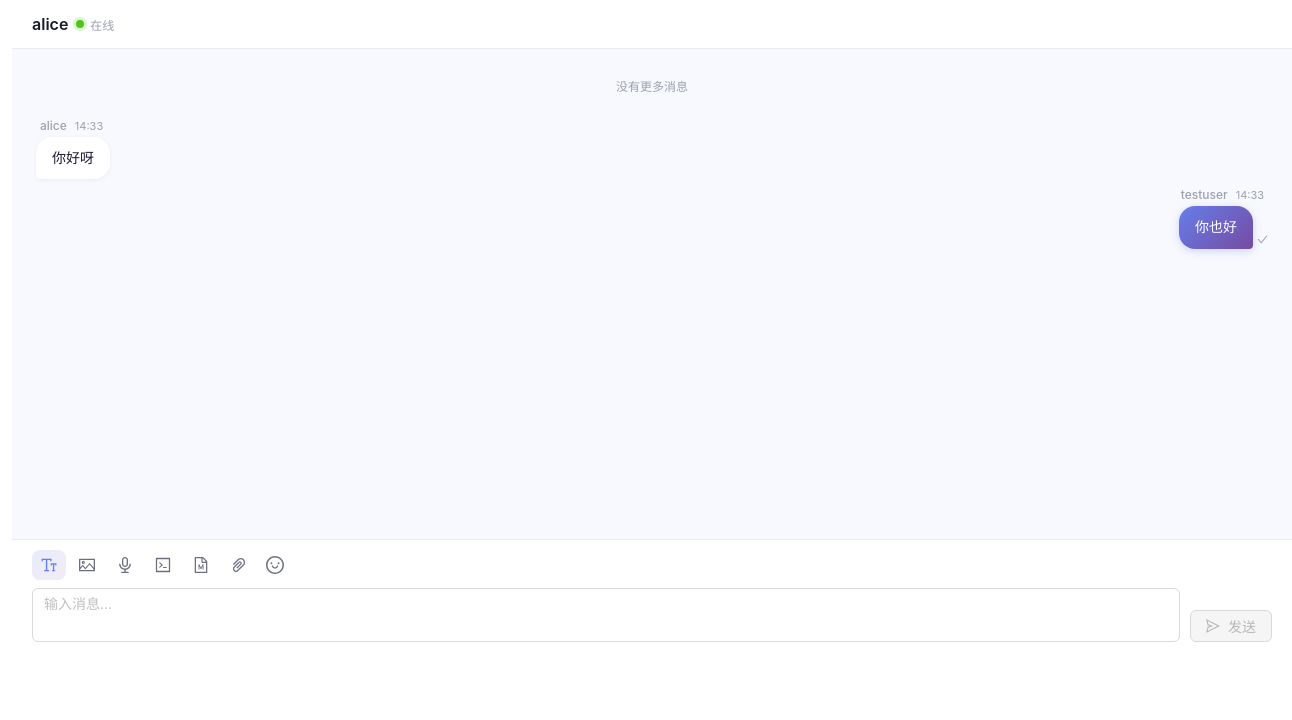
it: ChatWindow v1.3.0 集成测试 › 右键菜单集成 › 右键消息弹出上下文菜单
Right-click the text "你也好" at (1216, 228), box top-left (1179, 206), bottom-right (1253, 249)
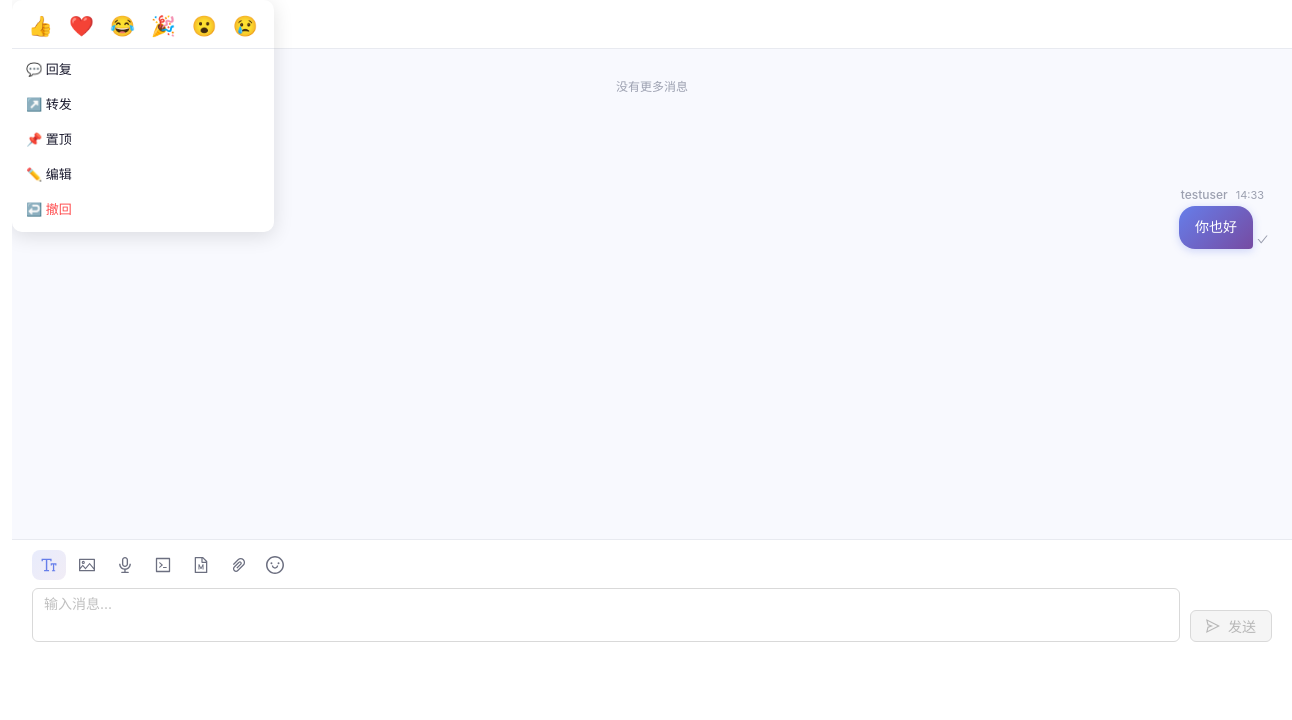
Expected: the button "💬 回复" is shown, top-left (12, 51), bottom-right (274, 86)
